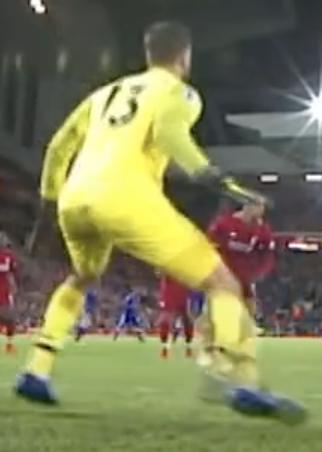goalkeeper: (14, 8, 319, 441)
